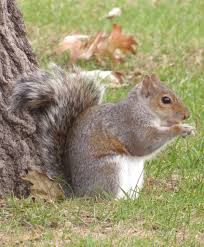Ardilla: (67, 74, 194, 204)
